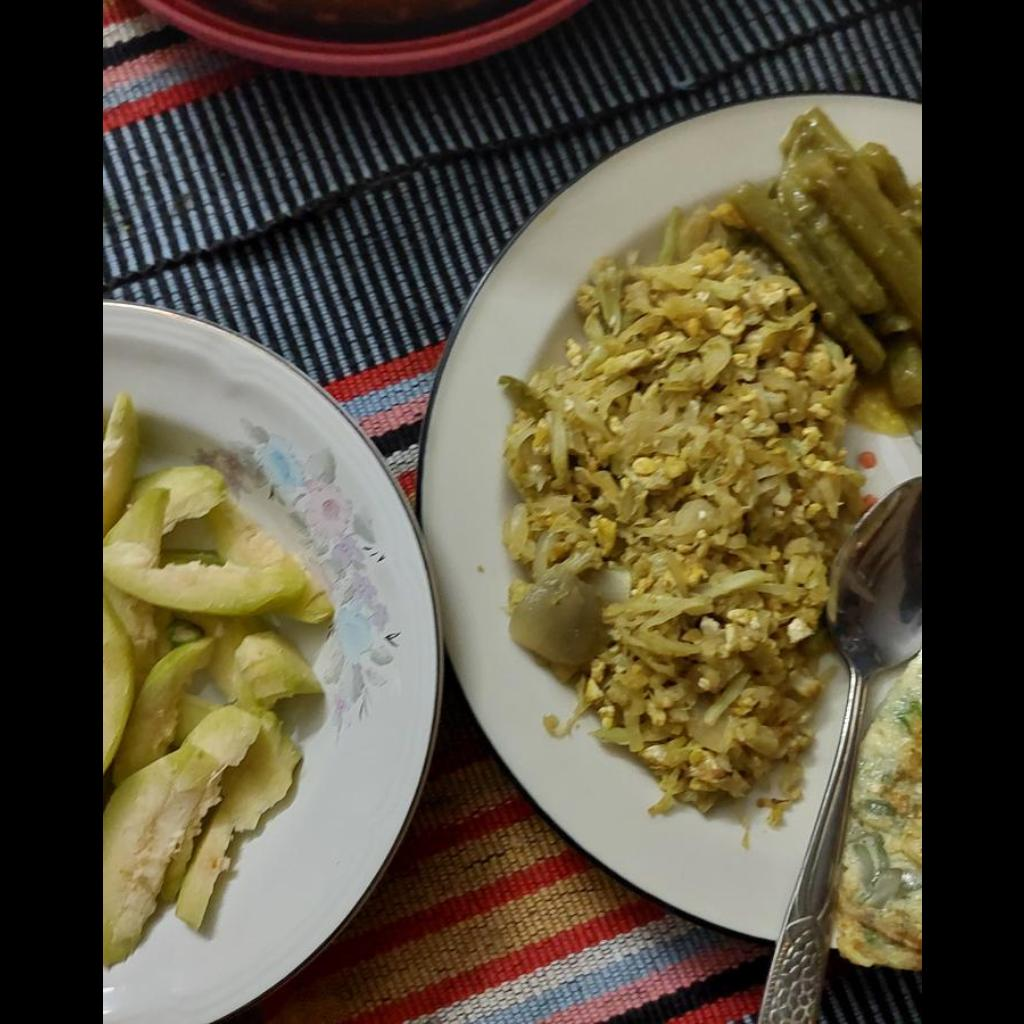egg-poached: (831, 654, 920, 969)
guava: (102, 396, 326, 963)
potol: (733, 108, 920, 412)
vaji: (494, 210, 840, 808)
